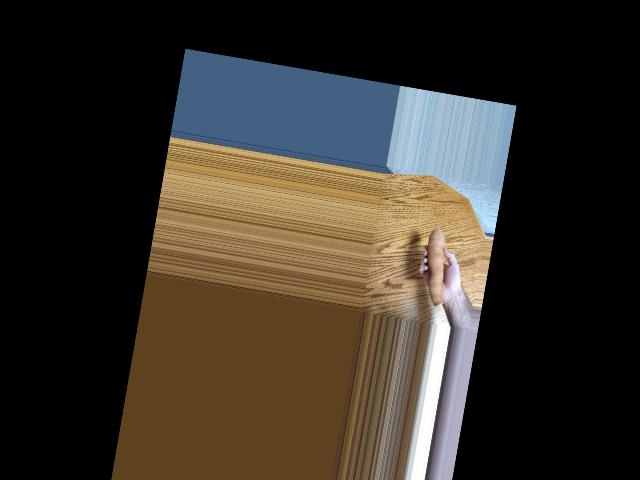sweet_potato: (413, 226, 455, 303)
